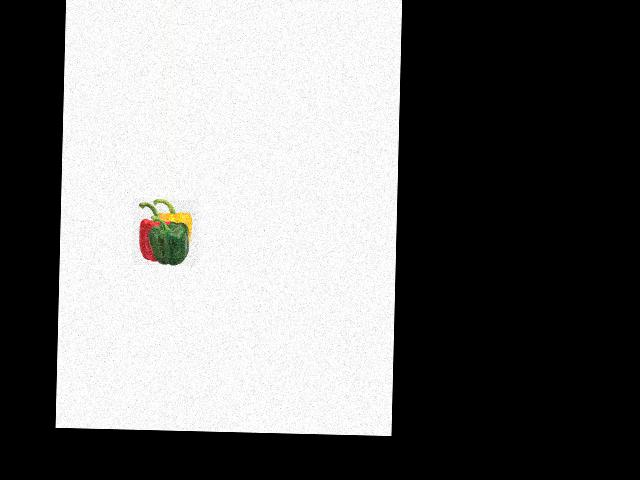bell_pepper: (130, 200, 170, 263)
